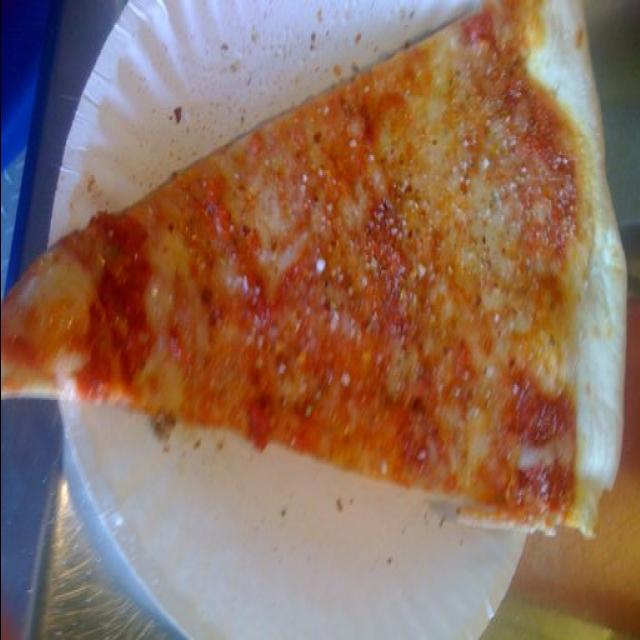pizza: (0, 2, 629, 540)
